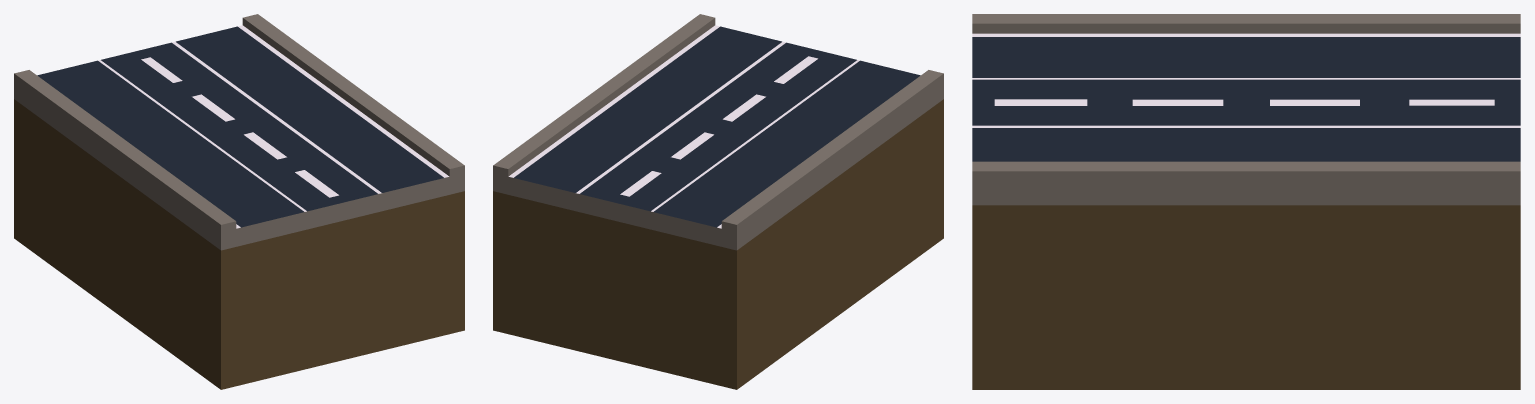
The model's file is Road.fbx.
The picture shows the model from 3 angles, left to right: view 1: azimuth 30°, elevation 25°; view 2: azimuth 150°, elevation 25°; view 3: azimuth 270°, elevation 25°; orthographic projection. The views are drawn at different scales.
Visible parts, largest first — view 1: Cube; view 2: Cube; view 3: Cube.
Boxes of the visible parts, x1=… form: Cube: x1=14, y1=14, x2=464, y2=389; Cube: x1=493, y1=14, x2=943, y2=389; Cube: x1=972, y1=14, x2=1520, y2=389.
Bounding box in the file's own units: 1700 × 1100 × 2500.
